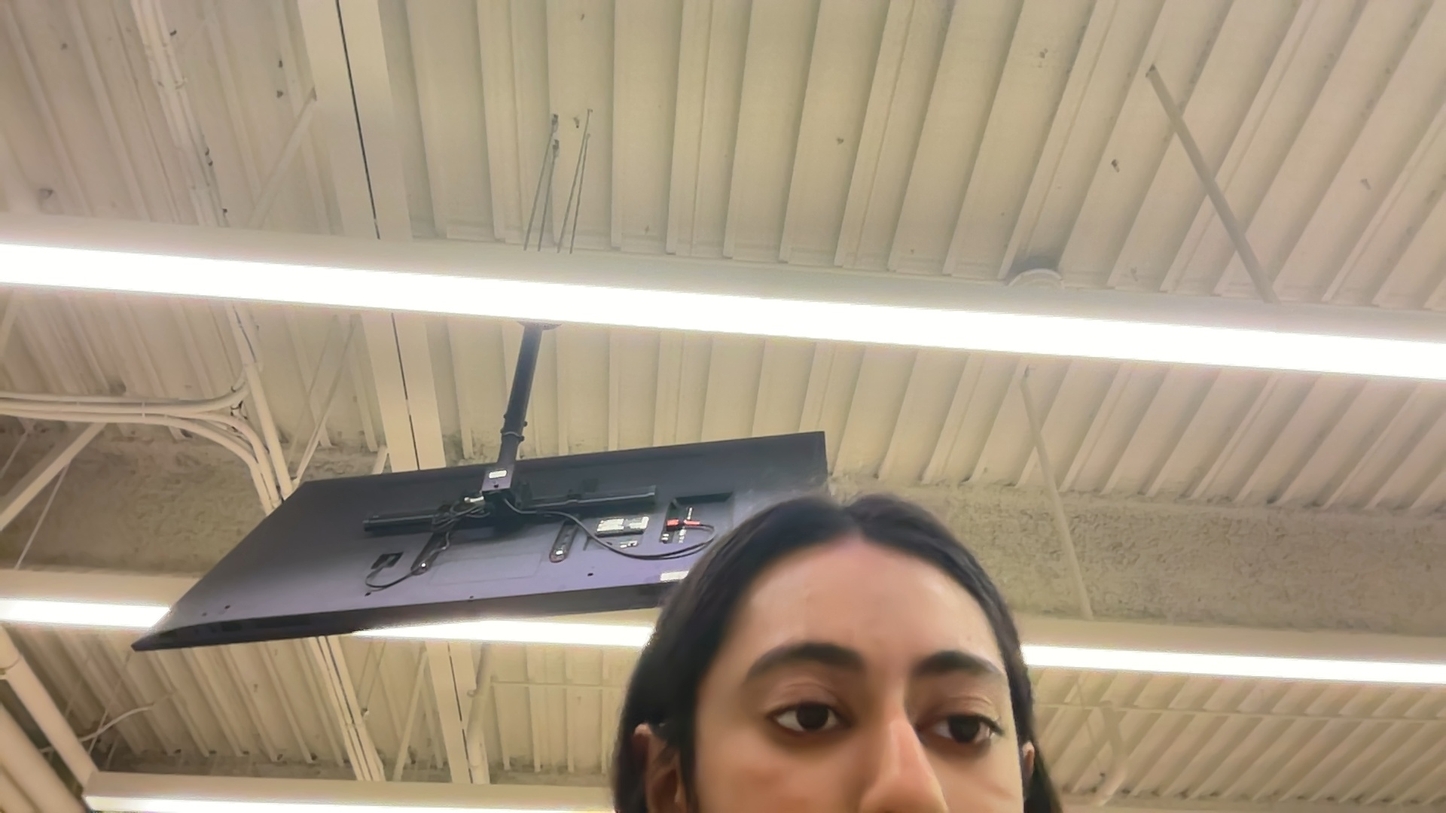Plastic: (0, 228, 1127, 813)
